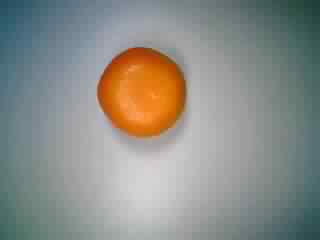orange: (94, 41, 189, 143)
